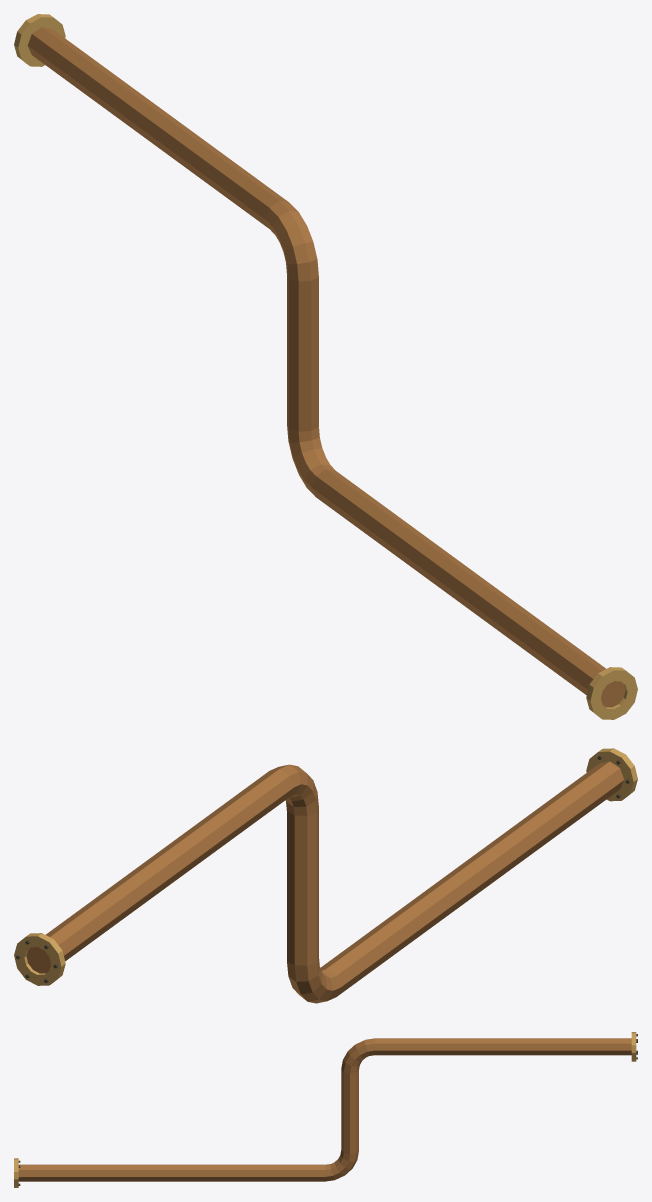
Rendered from pipe_run_12.glb.
The picture shows the model from 3 angles, top to bottom: view 1: azimuth 30°, elevation 25°; view 2: azimuth 150°, elevation 25°; view 3: azimuth 270°, elevation 25°; orthographic projection. The views are drawn at different scales.
Parts seen in each view (by area): view 1: Swept_pipe, End_0_Flange, End_1_Flange; view 2: Swept_pipe, End_1_Flange, End_0_Flange; view 3: Swept_pipe.
Boxes of the visible parts, left/top/right/bottom form: Swept_pipe: left=27, top=27, right=625, bottom=707; End_0_Flange: left=586, top=667, right=637, bottom=719; End_1_Flange: left=14, top=14, right=65, bottom=66; Swept_pipe: left=26, top=761, right=624, bottom=1003; End_1_Flange: left=14, top=933, right=65, bottom=985; End_0_Flange: left=586, top=748, right=637, bottom=801; Swept_pipe: left=18, top=1038, right=631, bottom=1181.
Bounding box in the file's own units: 0.297 × 1.7 × 6.26.
